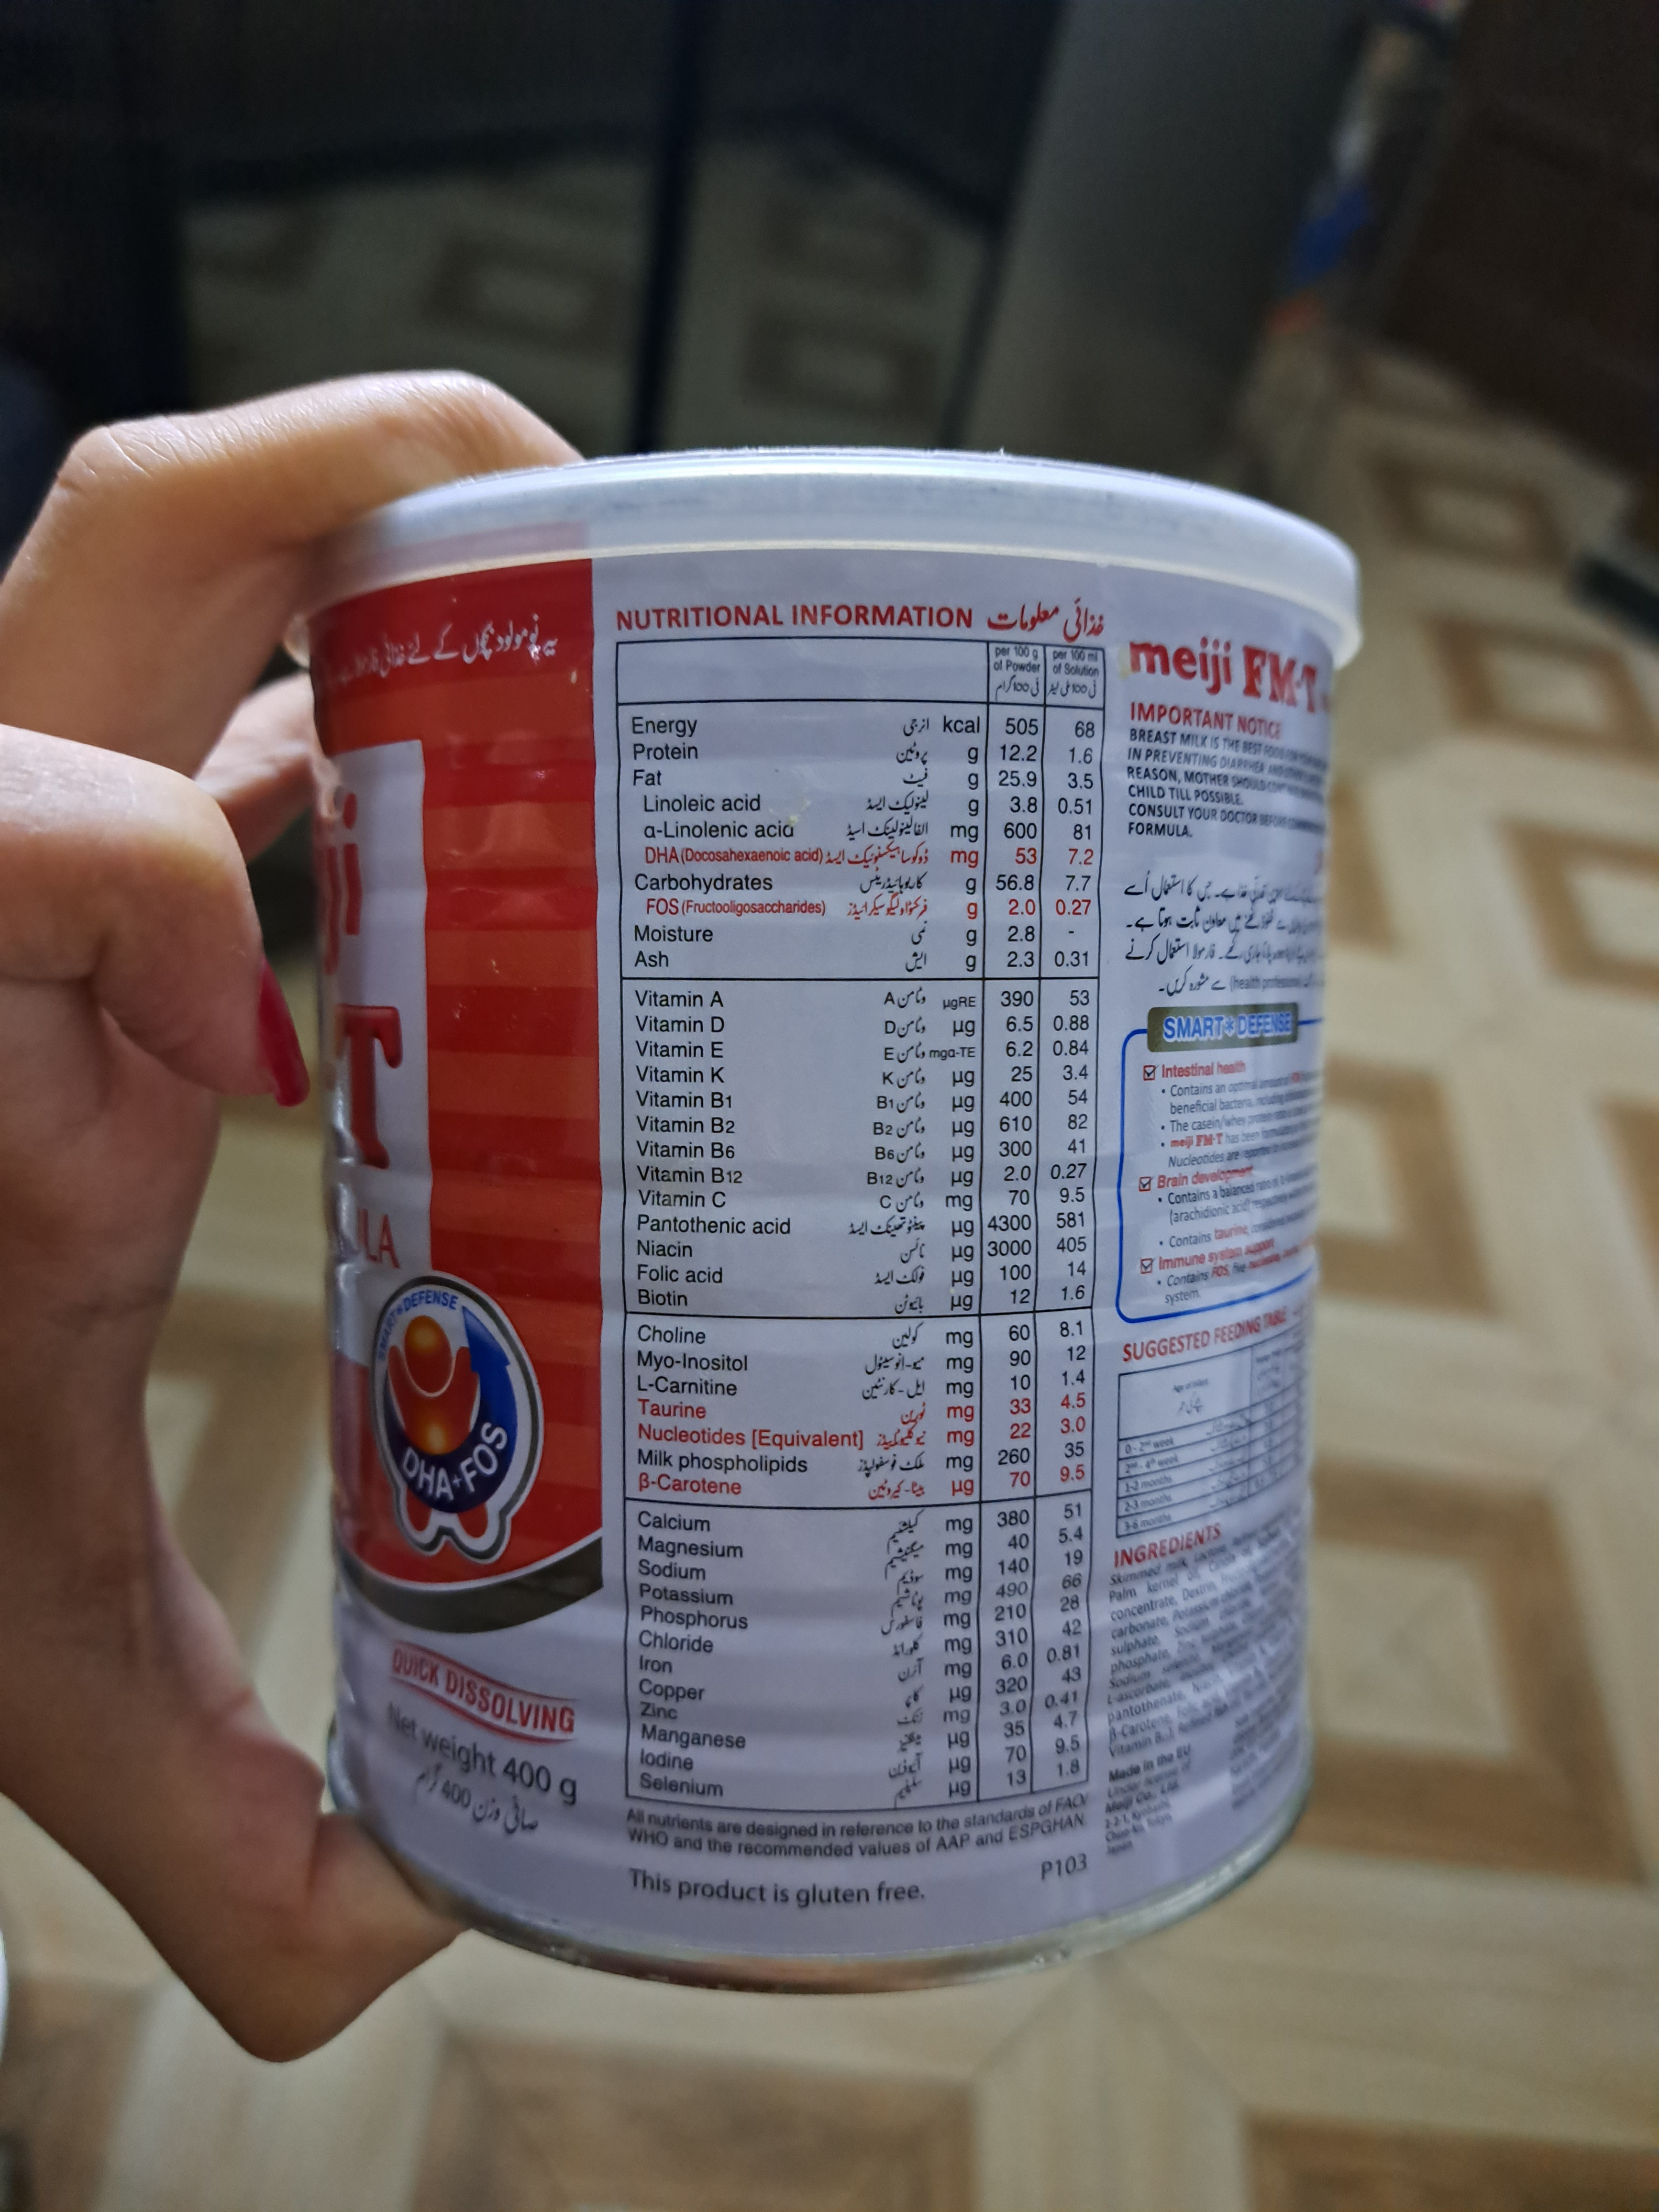table: (605, 587, 1107, 1796)
